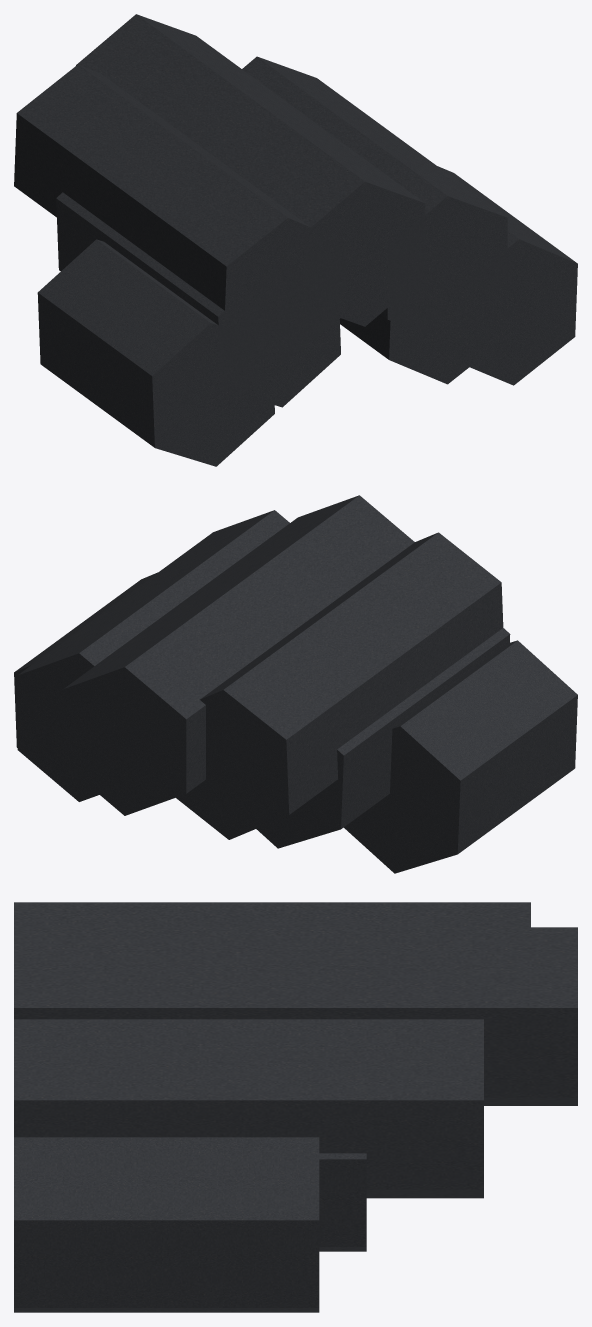
File: basalt-columns.glb
3 renders of one model, top to bottom at view 1: azimuth 30°, elevation 25°; view 2: azimuth 150°, elevation 25°; view 3: azimuth 270°, elevation 25°, orthographic. The views are drawn at different scales.
Parts seen in each view (by area): view 1: col0, col4, col5, col2, col1, col6, col3; view 2: col0, col4, col5, col1, col2, col6; view 3: col1, col4, col6, col0, col3.
Part boxes in pixels (<box>): col0: <box>14,64,346,364</box>; col4: <box>76,14,425,326</box>; col5: <box>37,239,274,466</box>; col2: <box>56,192,340,407</box>; col1: <box>242,56,507,339</box>; col6: <box>437,166,577,385</box>; col3: <box>339,238,511,384</box>; col0: <box>176,532,503,839</box>; col4: <box>63,495,414,815</box>; col5: <box>344,640,577,873</box>; col1: <box>17,510,289,801</box>; col2: <box>256,628,510,848</box>; col6: <box>14,572,157,747</box>; col1: <box>14,1019,483,1198</box>; col4: <box>14,927,577,1105</box>; col6: <box>14,1137,319,1312</box>; col0: <box>14,902,530,927</box>; col3: <box>319,1153,366,1251</box>.
Size of the model in its own units: 2.58 by 1.44 by 2.4.
Materials: 1 (1 with a texture image).
